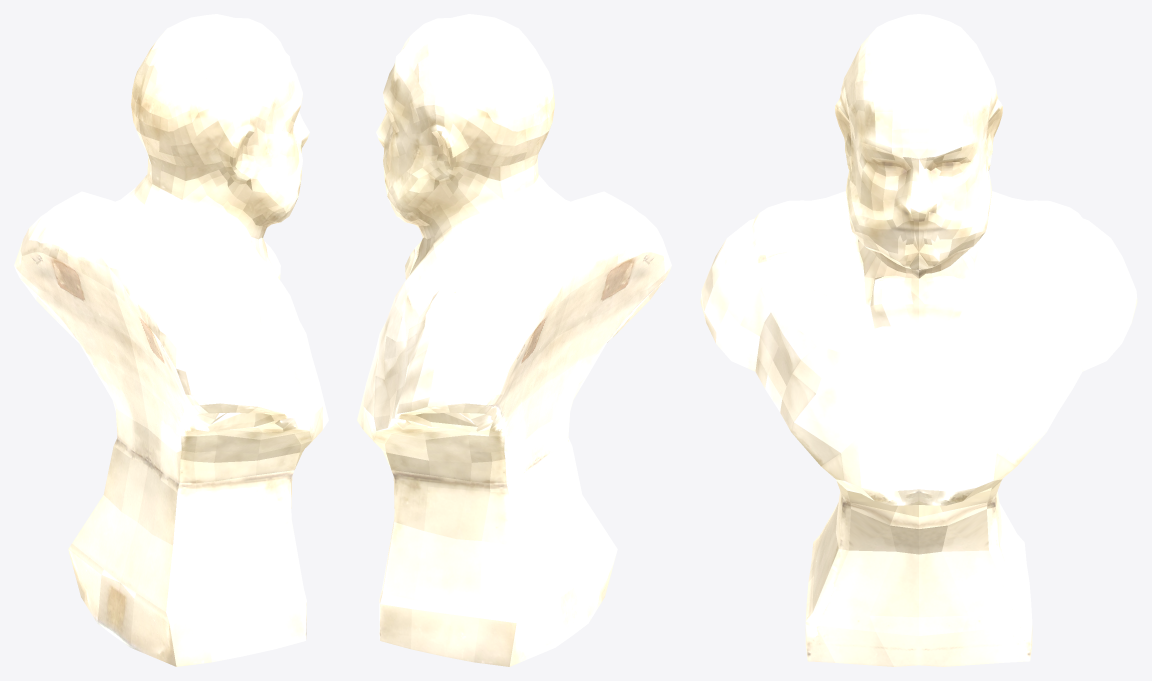
Rendered from busto_miguel_grau.glb.
3 renders of one model, left to right at view 1: azimuth 30°, elevation 25°; view 2: azimuth 150°, elevation 25°; view 3: azimuth 270°, elevation 25°, orthographic. The views are drawn at different scales.
Parts seen in each view (by area): view 1: Box006_01 - Default_0; view 2: Box006_01 - Default_0; view 3: Box006_01 - Default_0.
Boxes of the visible parts, <box> form: Box006_01 - Default_0: <box>14,14,328,666</box>; Box006_01 - Default_0: <box>357,14,671,666</box>; Box006_01 - Default_0: <box>700,14,1137,666</box>.
Size of the model in its own units: 1.85 by 5.02 by 3.22.
